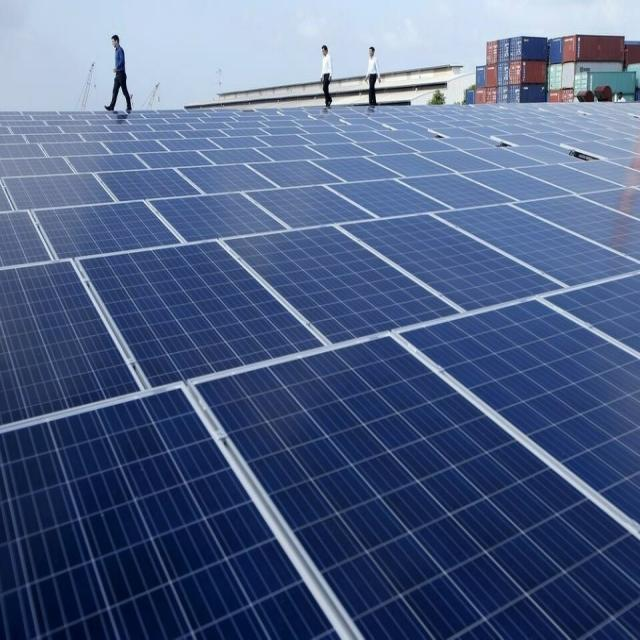clean-solar-panel: (0, 103, 640, 638)
